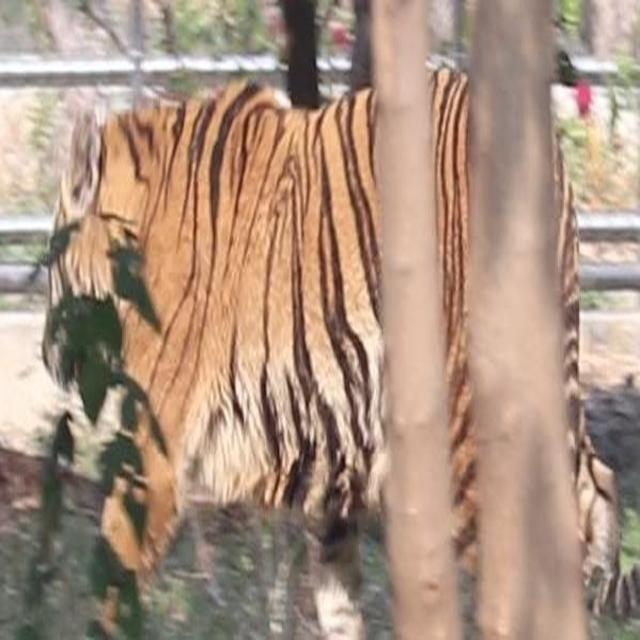tiger: (35, 65, 639, 639)
